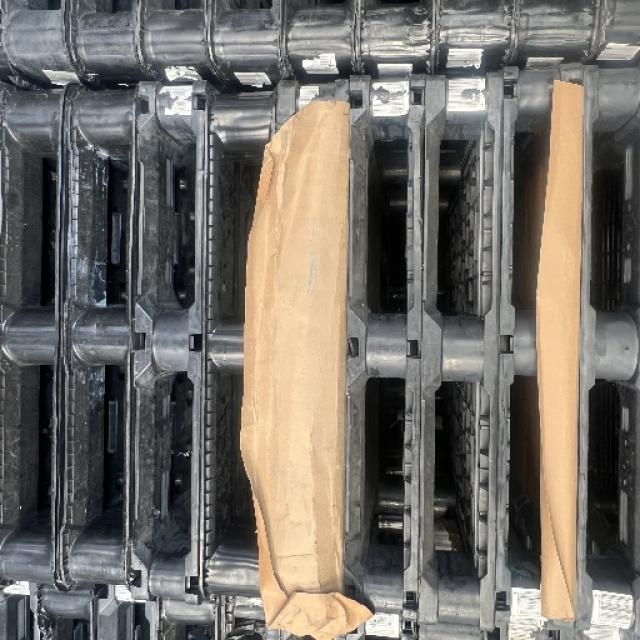igps: (192, 70, 309, 604), (487, 50, 591, 640), (268, 64, 378, 610), (410, 57, 511, 640), (336, 66, 437, 624), (124, 66, 222, 610), (50, 69, 149, 597), (0, 73, 78, 585), (573, 48, 639, 640), (200, 0, 290, 99), (59, 0, 147, 96), (132, 0, 216, 94), (274, 0, 364, 87), (348, 0, 442, 82), (0, 0, 77, 98), (507, 0, 604, 71), (428, 0, 511, 82), (26, 577, 98, 640), (585, 0, 640, 72), (152, 593, 224, 640), (208, 593, 271, 640)
